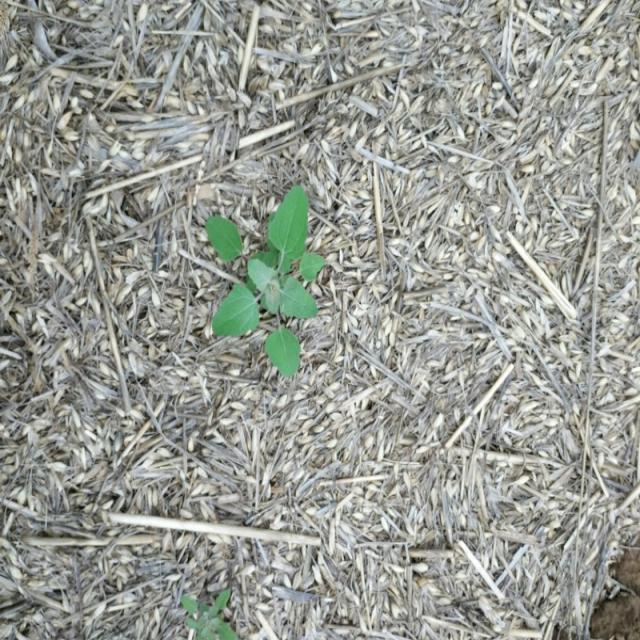goosefoots: (180, 178, 325, 370)
